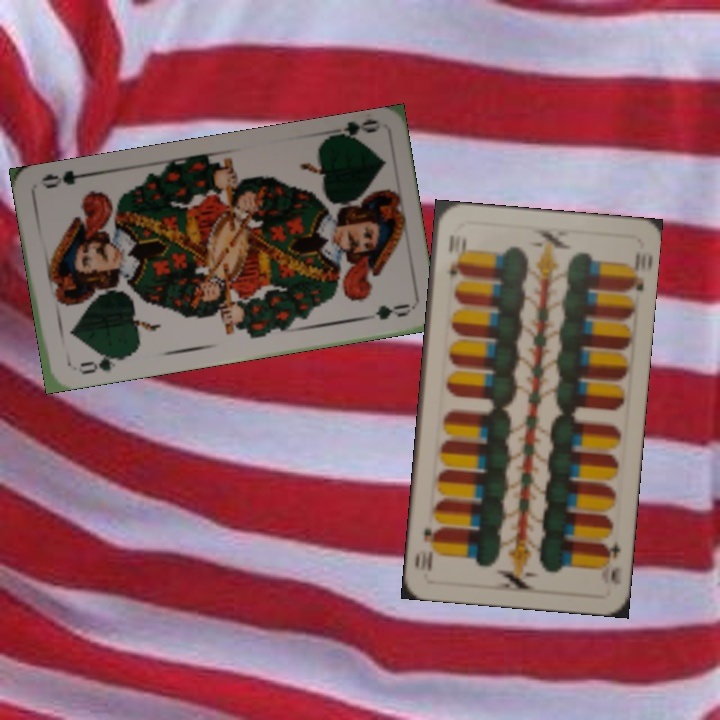E10: (598, 536, 624, 588), (444, 231, 466, 278)
GO: (323, 115, 381, 145), (74, 349, 125, 377)
